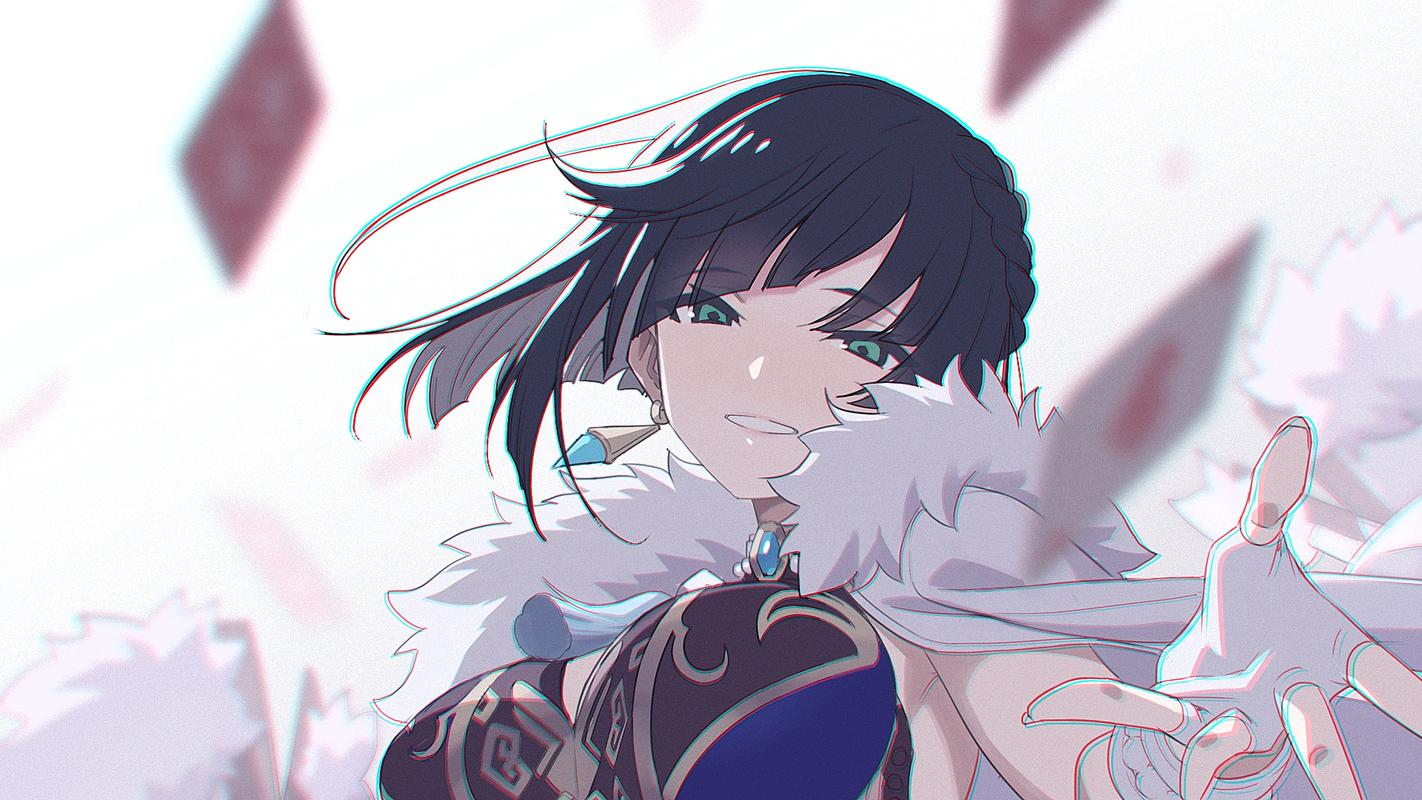夜兰: (365, 62, 1422, 800)
